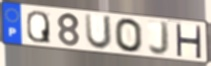8: (56, 12, 81, 48)
H: (174, 22, 202, 60)
J: (148, 20, 171, 57)
O: (113, 17, 145, 54)
Q: (26, 10, 53, 45)
U: (84, 13, 114, 52)
